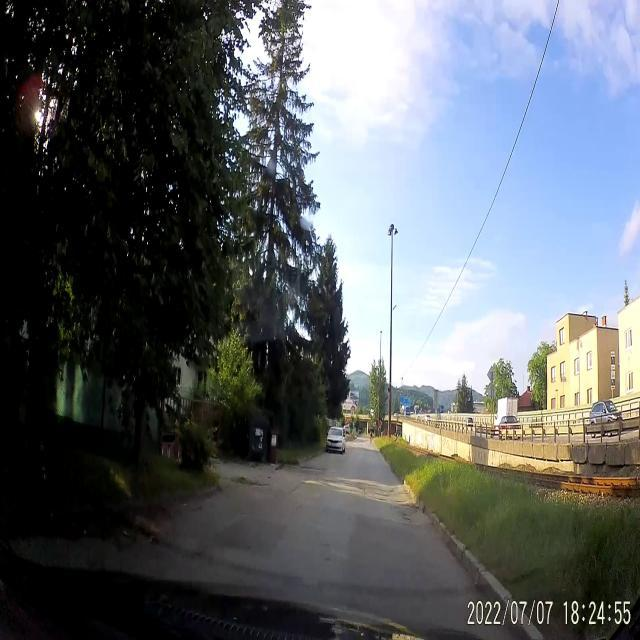Pothole: (391, 500, 420, 522), (300, 462, 327, 478)
